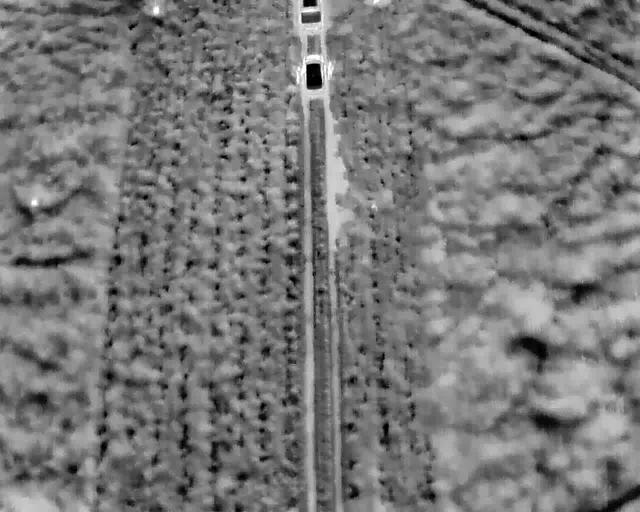car: (303, 53, 324, 91), (297, 0, 324, 25)
person: (294, 63, 305, 85), (324, 58, 335, 79)
